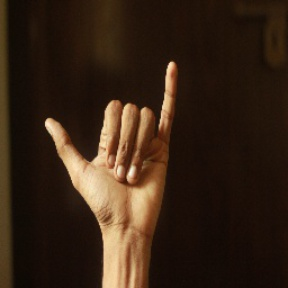J: (39, 56, 184, 232)
